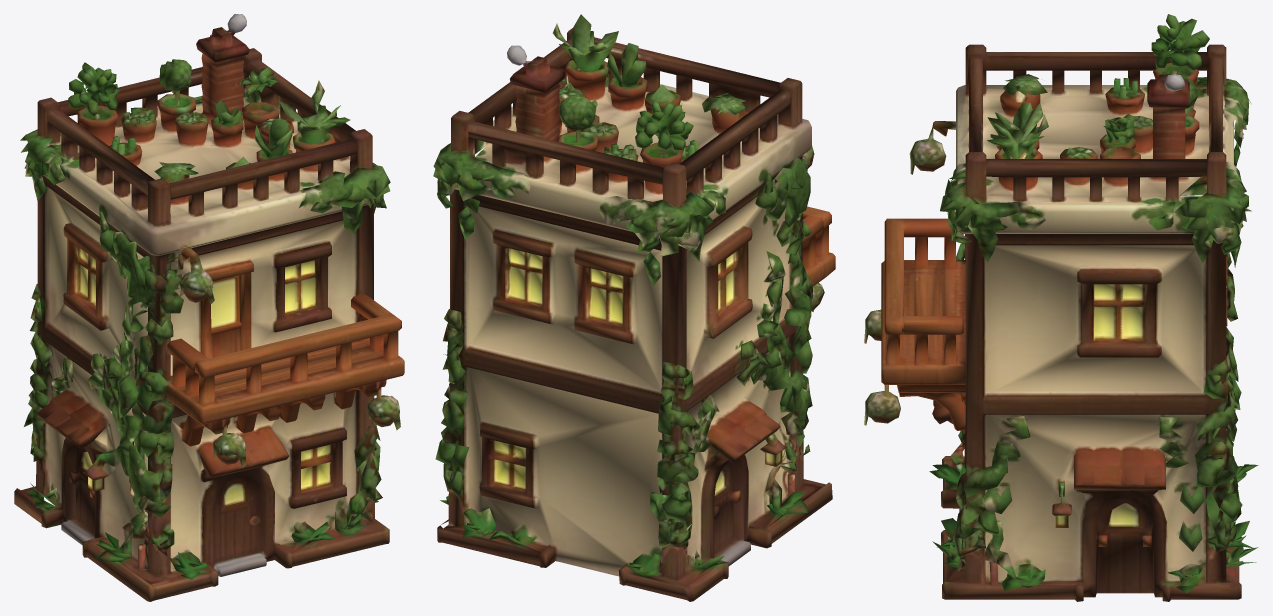
File: gardenhouse_b.glb
The picture shows the model from 3 angles, left to right: view 1: azimuth 30°, elevation 25°; view 2: azimuth 150°, elevation 25°; view 3: azimuth 270°, elevation 25°; orthographic projection. The views are drawn at different scales.
Visible parts, largest first — view 1: tripo_node_f604fddf-148d-46b4-9831-149f76bef7ed; view 2: tripo_node_f604fddf-148d-46b4-9831-149f76bef7ed; view 3: tripo_node_f604fddf-148d-46b4-9831-149f76bef7ed.
Boxes of the visible parts, x1=… form: tripo_node_f604fddf-148d-46b4-9831-149f76bef7ed: x1=14, y1=14, x2=404, y2=601; tripo_node_f604fddf-148d-46b4-9831-149f76bef7ed: x1=433, y1=14, x2=835, y2=601; tripo_node_f604fddf-148d-46b4-9831-149f76bef7ed: x1=864, y1=14, x2=1258, y2=601.
Bounding box in the file's own units: 0.6217 × 0.9775 × 0.6982.
Materials: 1 (1 with a texture image).
